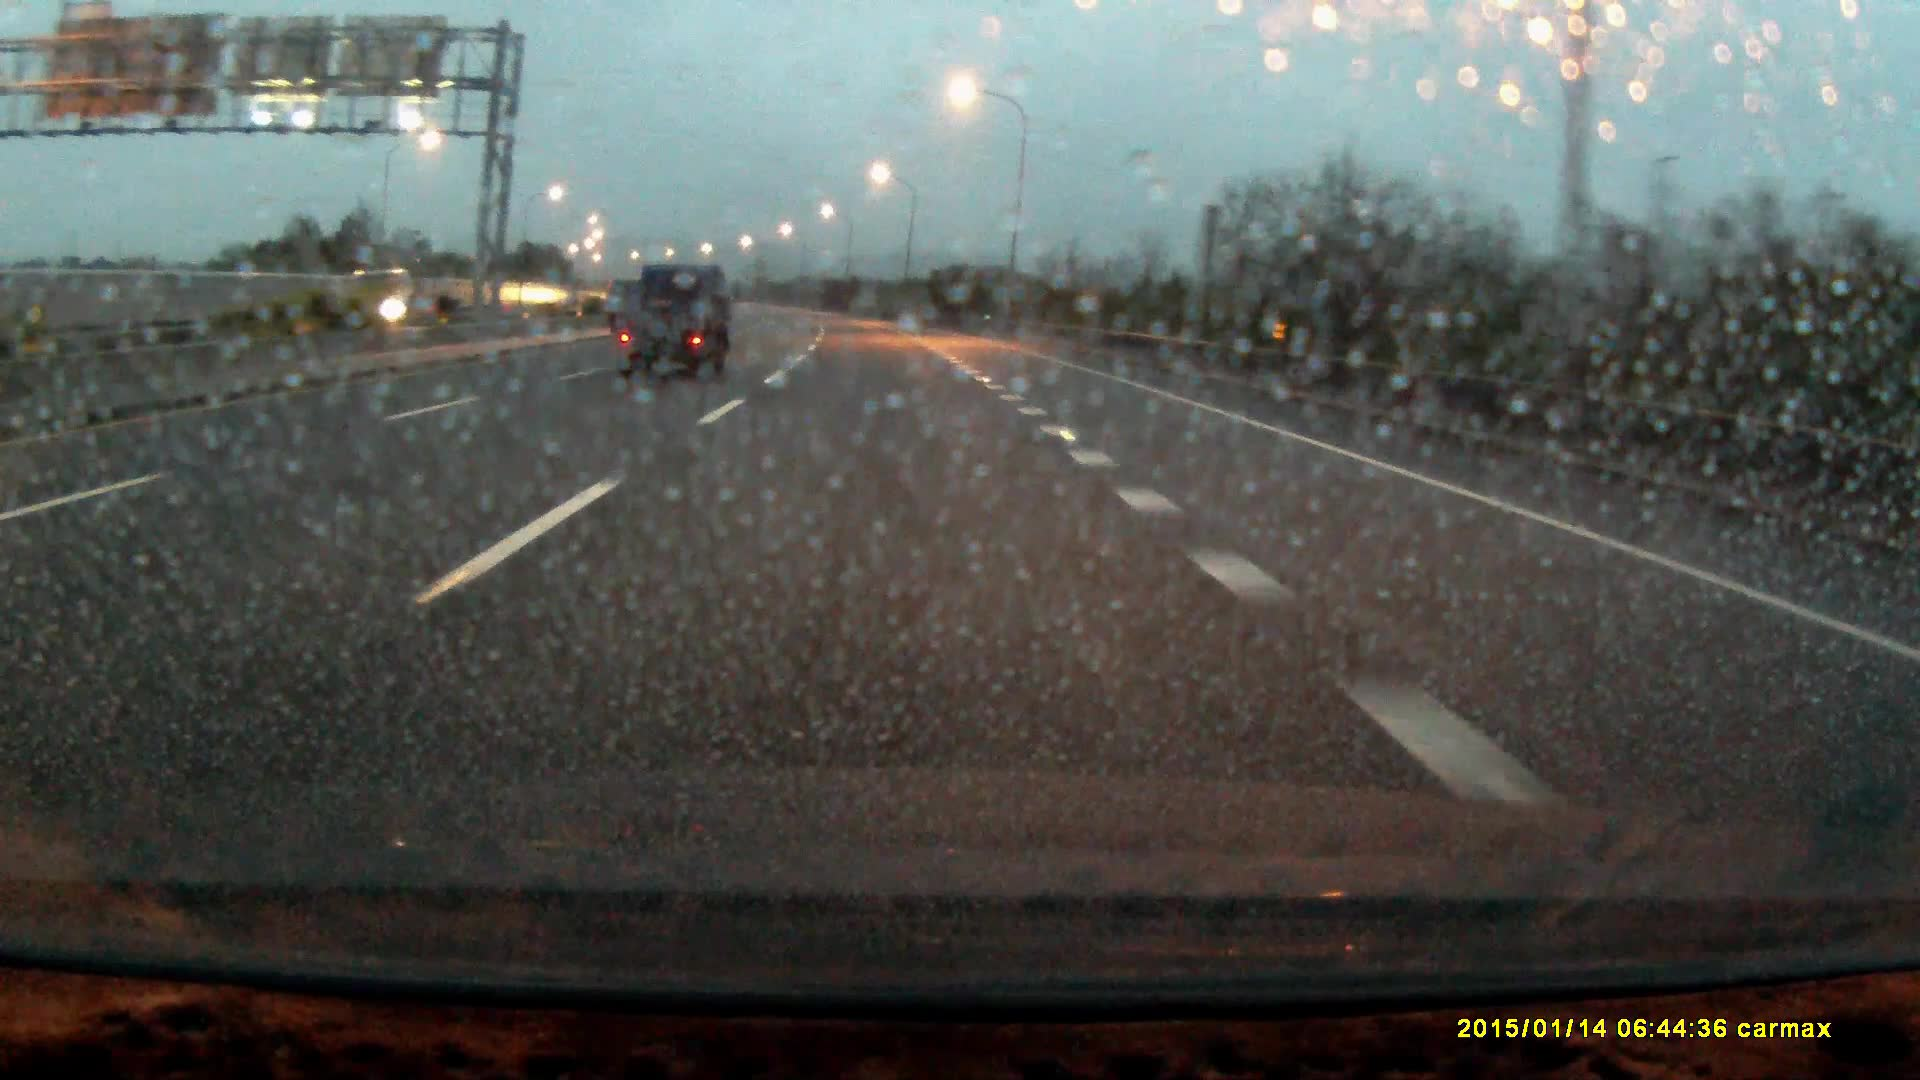vehicle: (616, 261, 733, 382), (344, 262, 465, 320)
